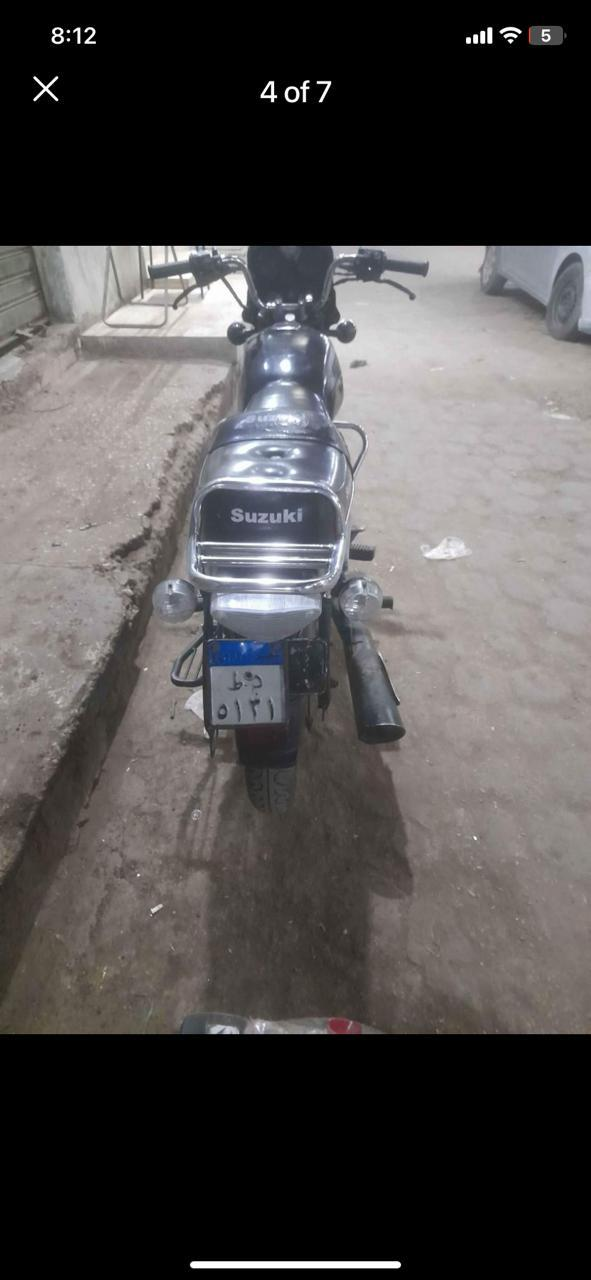License Plate: (196, 628, 295, 734)
